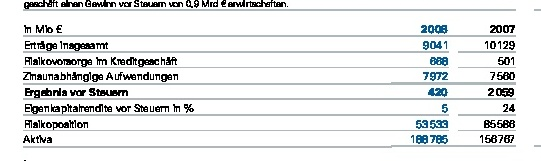table: (0, 0, 541, 161)
